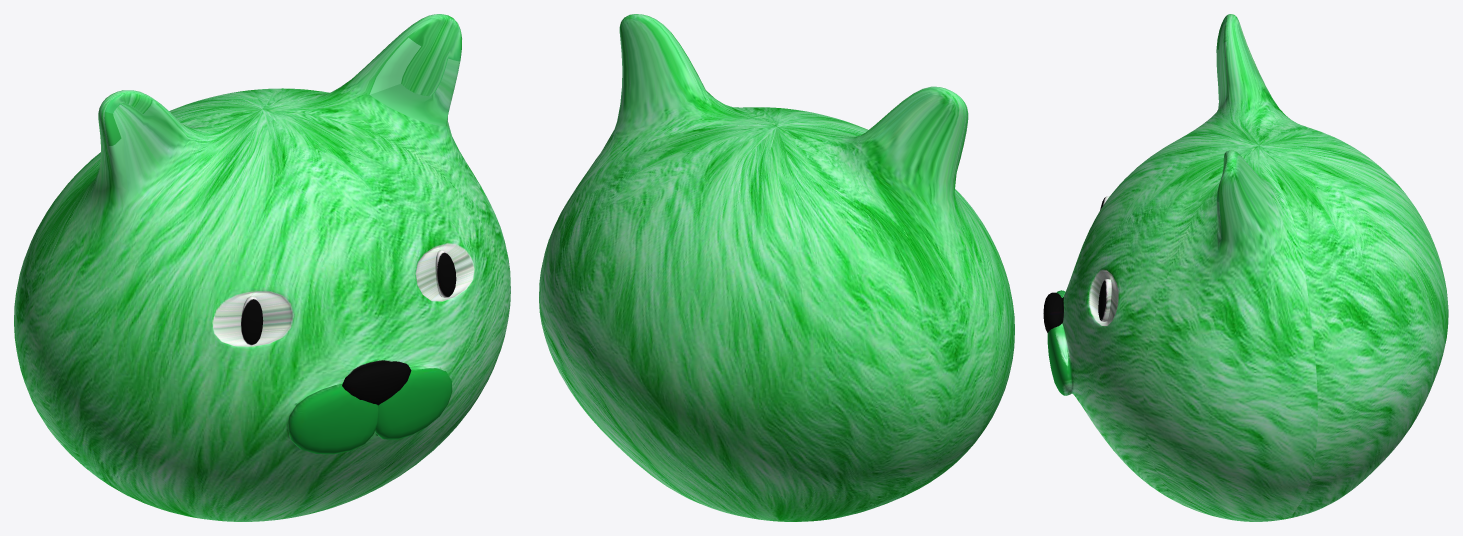
File: catHead.fbx
3 renders of one model, left to right at view 1: azimuth 30°, elevation 25°; view 2: azimuth 150°, elevation 25°; view 3: azimuth 270°, elevation 25°, orthographic. The views are drawn at different scales.
Visible parts, largest first — view 1: pSphere1; view 2: pSphere1; view 3: pSphere1.
Boxes of the visible parts, <box> form: pSphere1: <box>14,14,510,521</box>; pSphere1: <box>539,14,1014,521</box>; pSphere1: <box>1043,14,1448,521</box>.
Size of the model in its own units: 2.39 by 2.33 by 2.08.
1 material, 1 textured.
